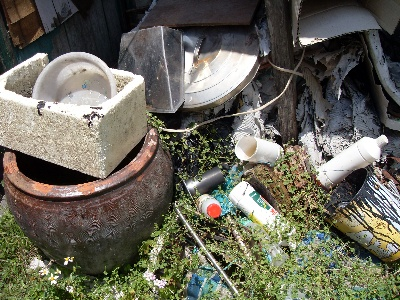bottle: (318, 134, 387, 188), (227, 180, 280, 225), (235, 134, 284, 163), (194, 193, 221, 218)
bowl: (3, 126, 174, 274), (31, 52, 117, 100)
bucket: (322, 168, 400, 262)
plate: (182, 29, 261, 112)
styrofoam: (1, 53, 147, 178)
